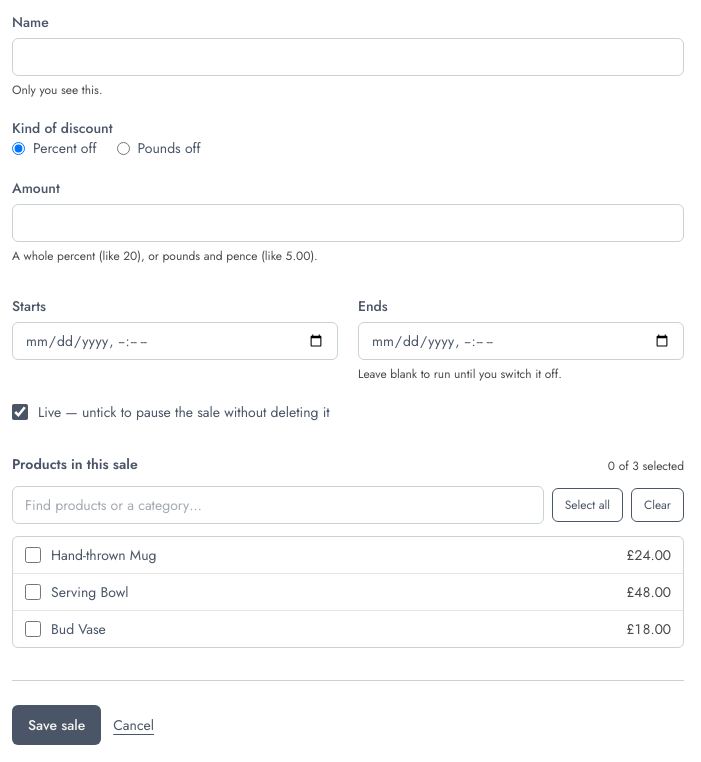
Test case: SaleForm › selects every product at once
The image size is (701, 762).
Step 1. Click the button "Select all" → (587, 505), box [552,488,623,522]
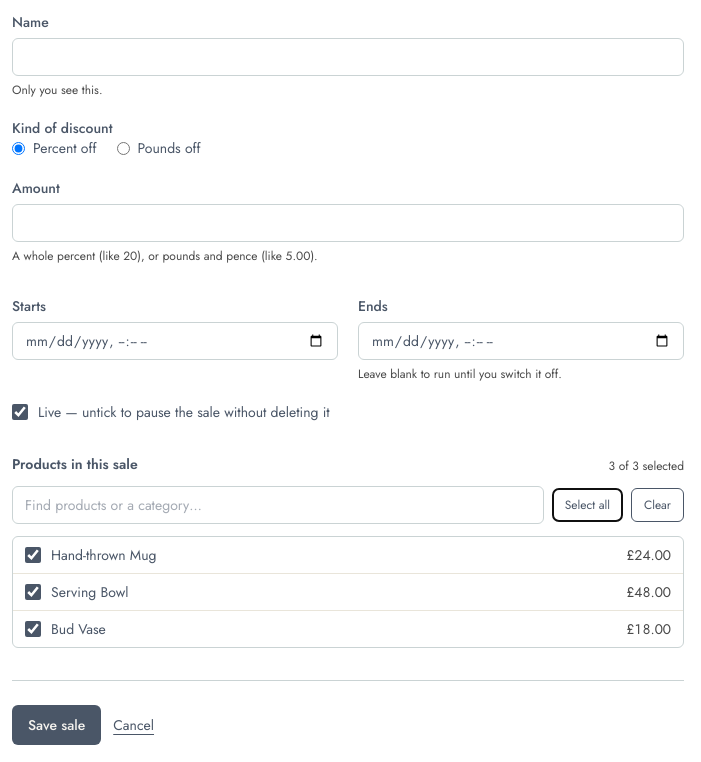
Expected: the checkbox labelled "Hand-thrown Mug £24.00" is checked, [25,547,41,563]
Expected: the checkbox labelled "Serving Bowl £48.00" is checked, [25,584,41,600]
Expected: the checkbox labelled "Bud Vase £18.00" is checked, [25,621,41,637]
